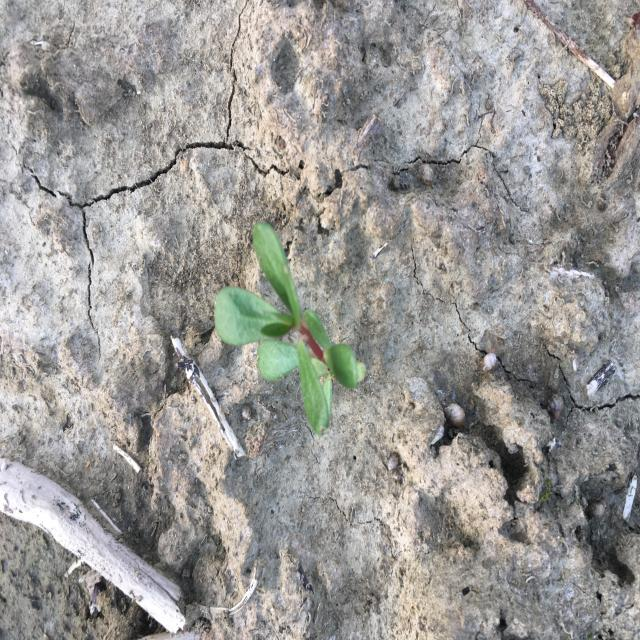Purslane: (211, 220, 368, 438)
